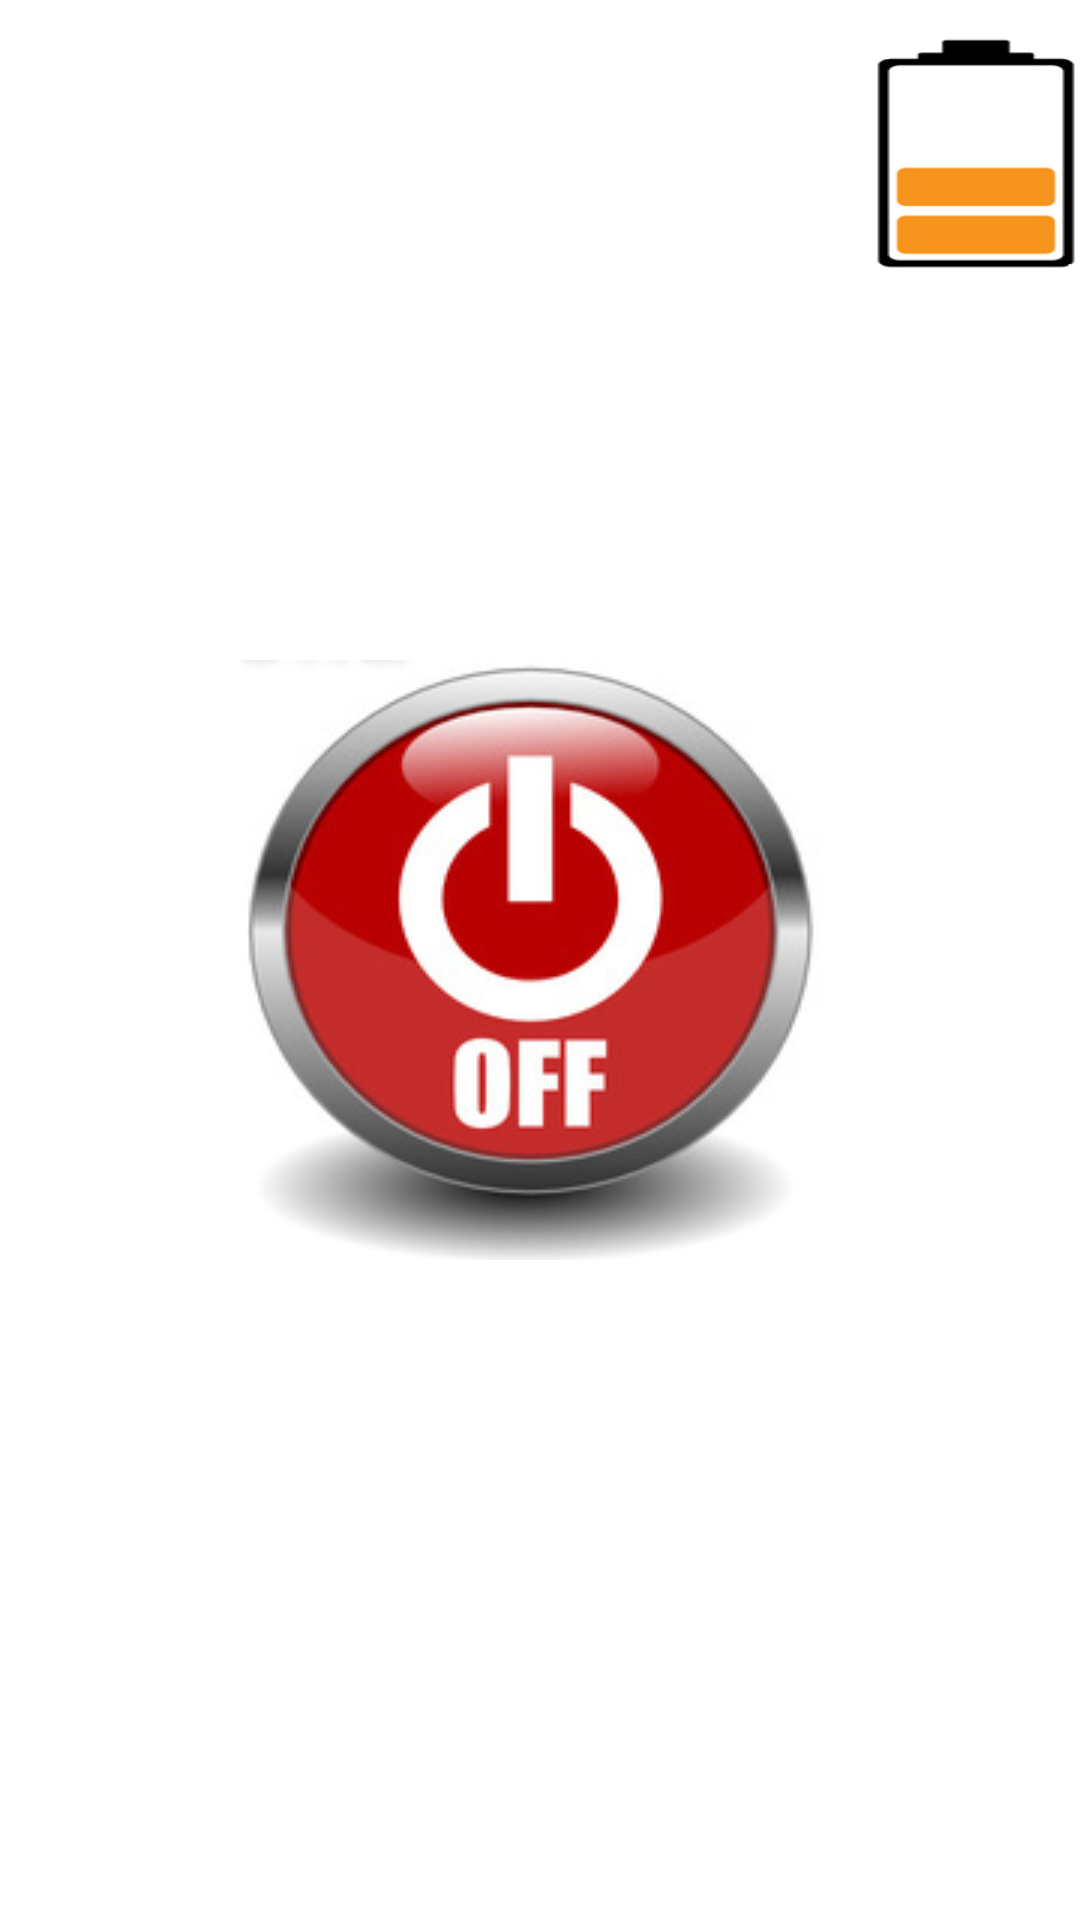

Named icons in this screenshot (1080 × 1920) and their centers, (x,y):
charge: (976,153)
